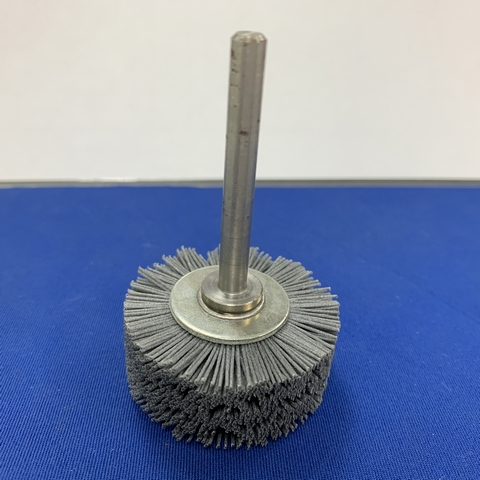Wheel Brush: (106, 16, 342, 451), (126, 49, 344, 451), (121, 47, 333, 441)
